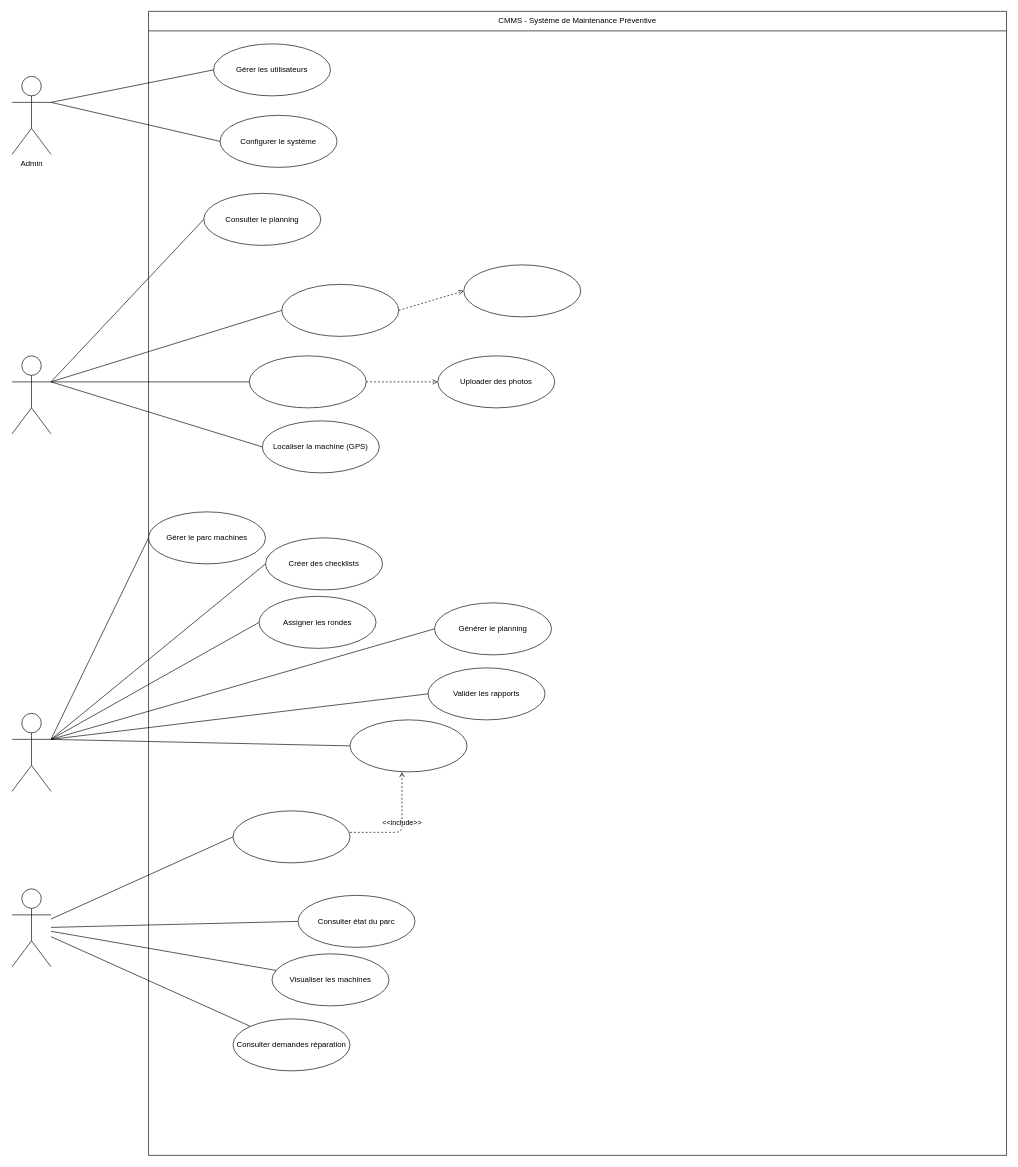
Some shapes in this 1018 by 1167 pixel diagram are drawn without their labels. The centre of each missing label's shape, as x and y in pixels:
"Chef de Techniciens" belongs at point 31,752.
"Client" belongs at point 31,927.
"Créer demande de réparation" belongs at point 408,745.
"Effectuer une ronde" belongs at point 340,310.
"Remplir la checklist" belongs at point 522,290.
"Signaler une anomalie" belongs at point 307,381.
"Technicien" belongs at point 31,394.
"Uploader Bon de Commande" belongs at point 291,836.
